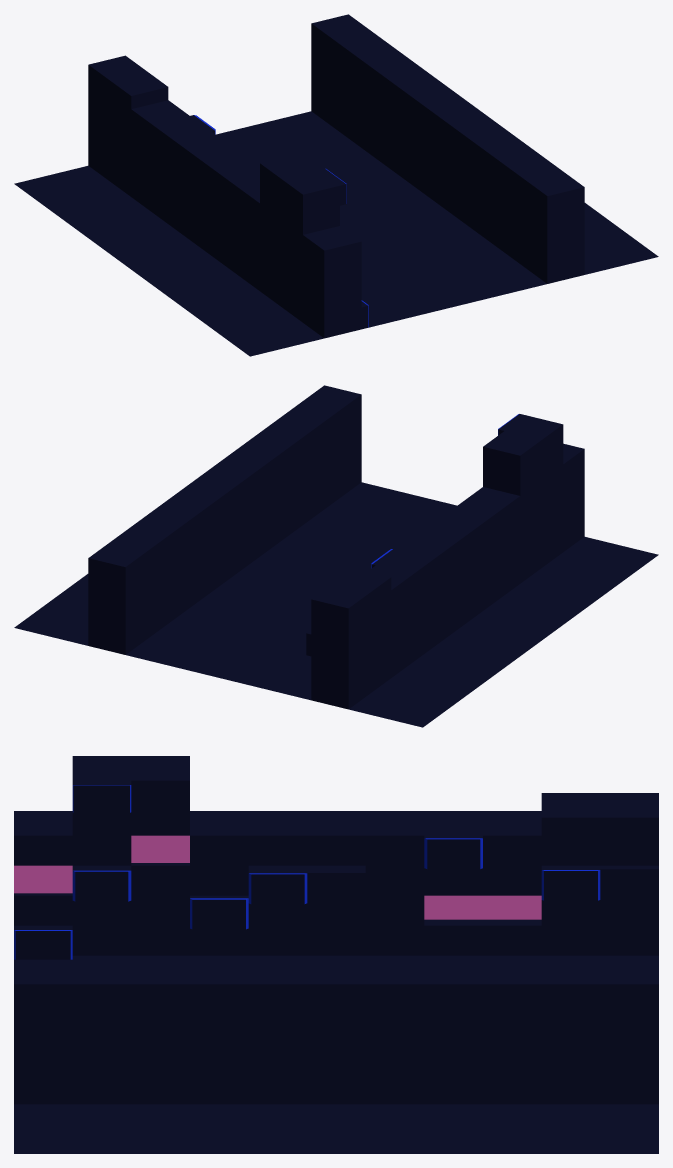
Rendered from terrainoneside.fbx.
3 views of the same model, one above another, from view 1: azimuth 30°, elevation 25°; view 2: azimuth 150°, elevation 25°; view 3: azimuth 270°, elevation 25° (orthographic). The views are drawn at different scales.
Parts seen in each view (by area): view 1: terrain; view 2: terrain; view 3: terrain.
Boxes of the visible parts, x1,y1,x2,y2 form: terrain: (14,14,658,356); terrain: (14,385,658,727); terrain: (14,756,658,1153).
Size of the model in its own units: 100 by 29.92 by 100.
